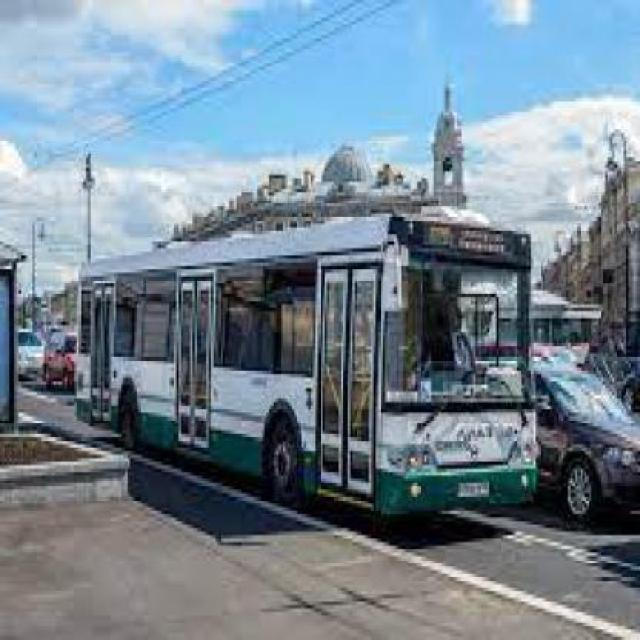bus: (80, 213, 537, 520)
